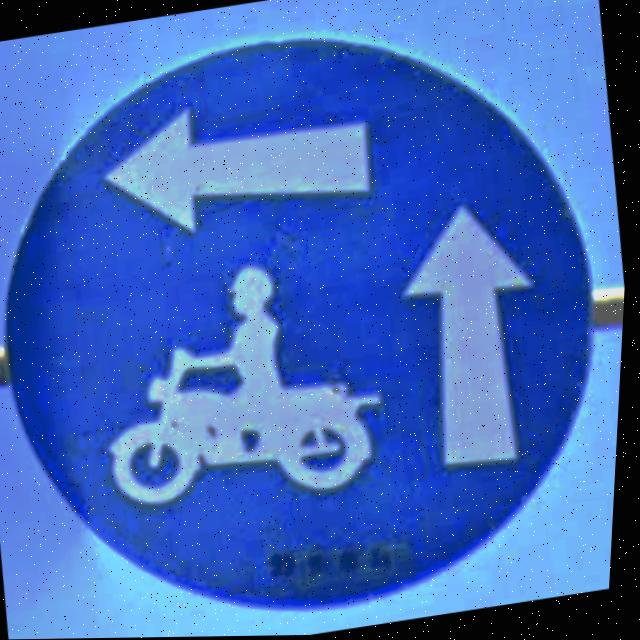twostageturn: (6, 38, 598, 613)
